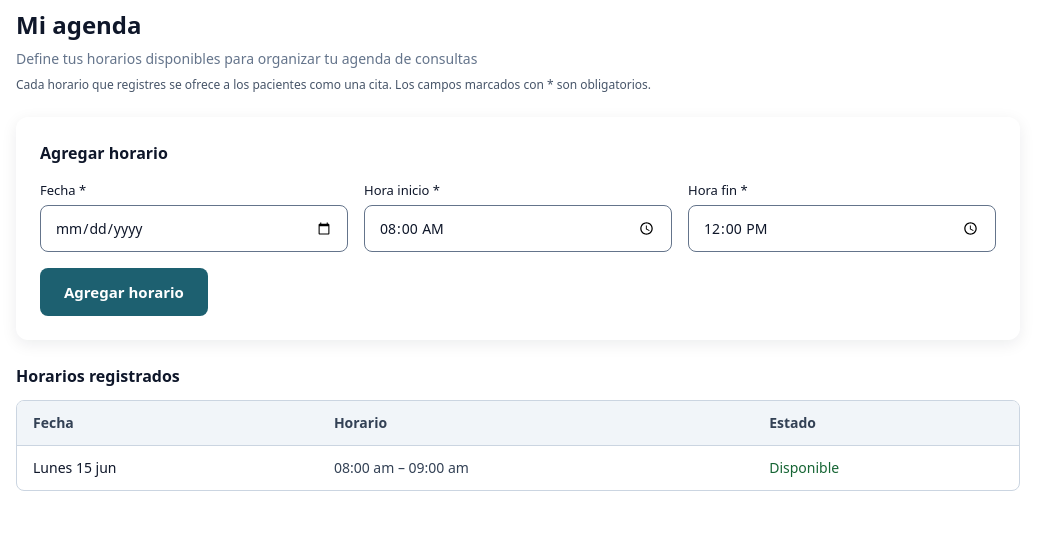
Test: HU-09 definir horarios › escenario 2: avisa antes de enviar si se cruza con otro horario
Expected: the table is shown, [17,401,1019,490]
Type "2099-06-15" into the date field with id "horario-fecha" at (194, 228), box [40,205,348,252]
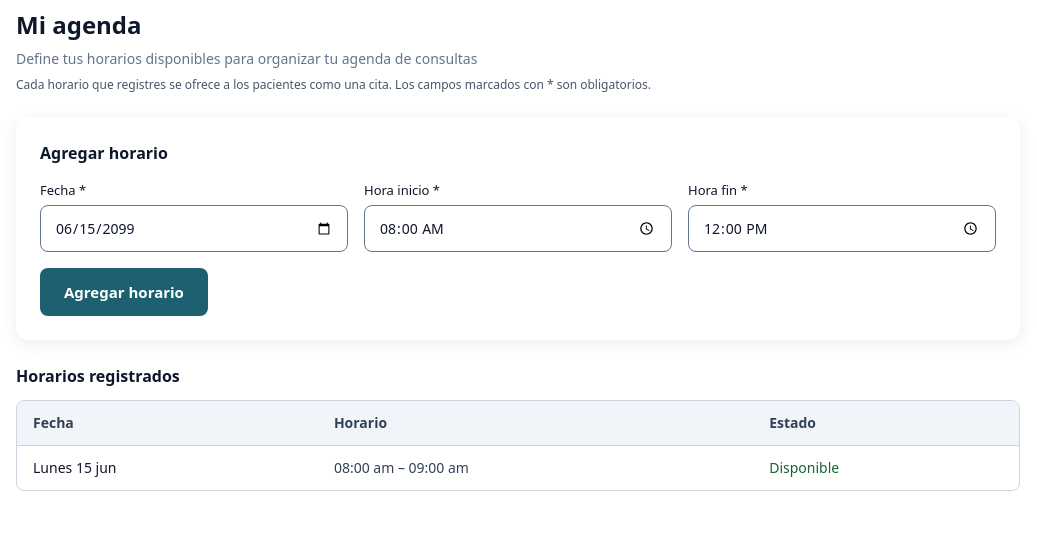
Replace the text in the time field with id "horario-horaInicio" with "08:30" at (518, 228), box [364,205,672,252]
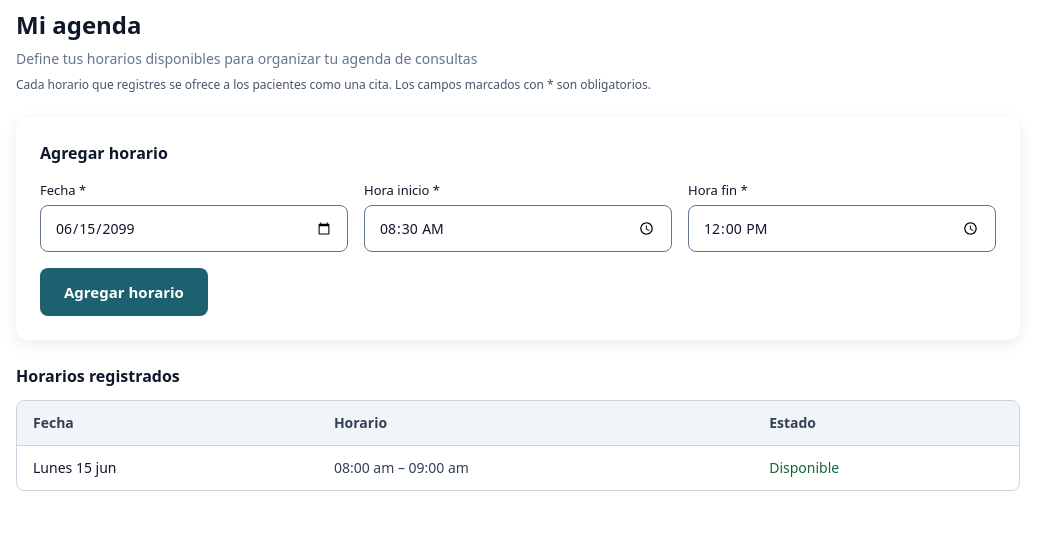
Replace the text in the time field with id "horario-horaFin" with "09:30" at (842, 228), box [688,205,996,252]
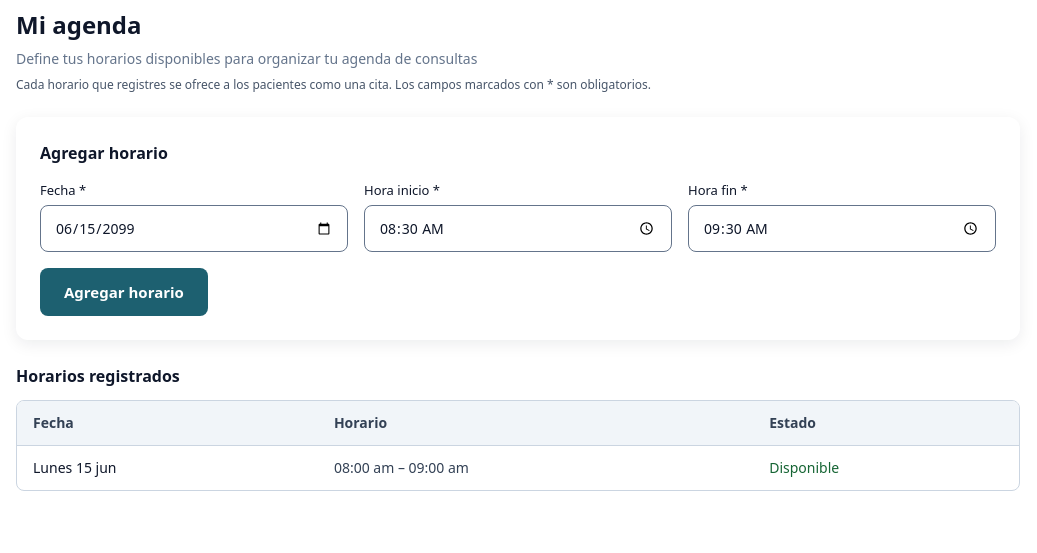
Click the button "Agregar horario" at (124, 292), box [40,268,208,316]
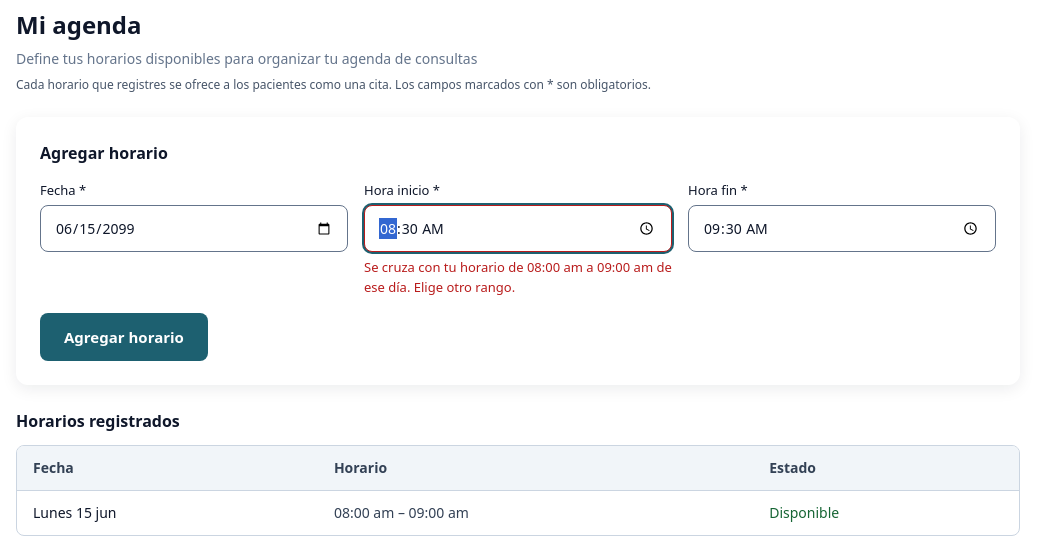
Expected: the text "Se cruza con tu horario de 08:00 am a 09:00 am de ese día. Elige otro rango." is shown, [364,258,672,297]
